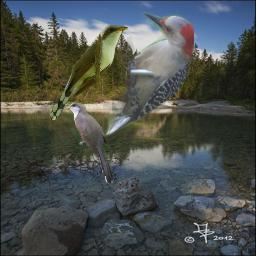Cuckoo: (50, 25, 128, 120), (62, 101, 115, 185)
Woodpecker: (103, 12, 194, 138)
